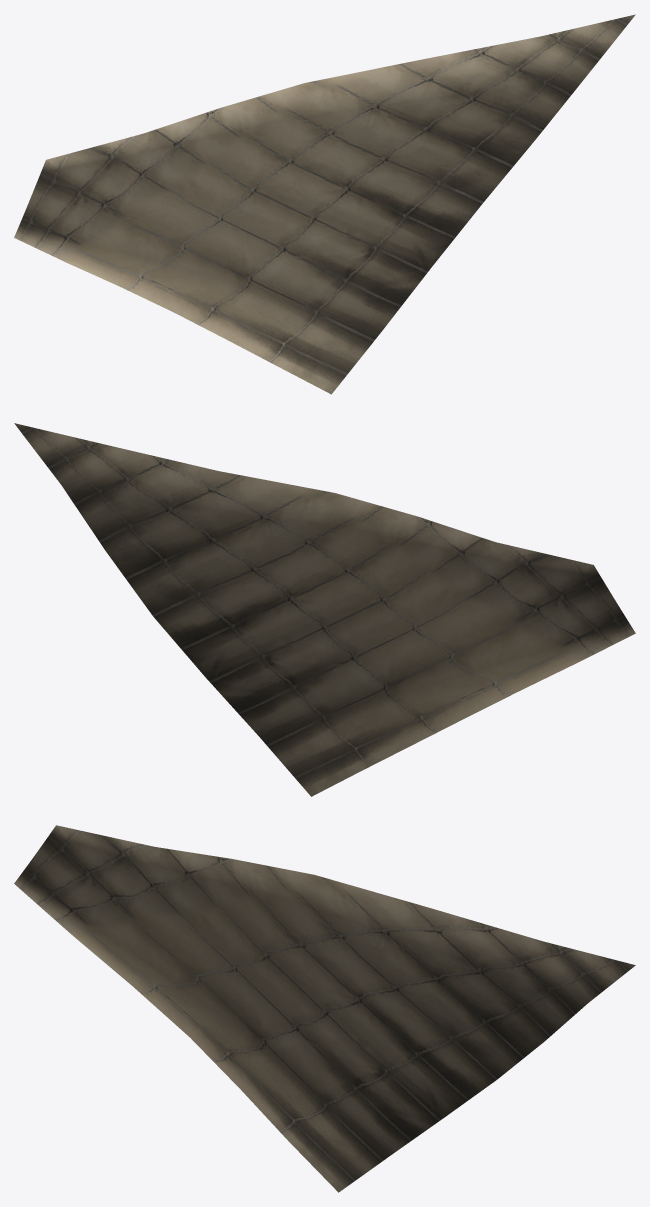
Rendered from orient_sail_back.glb.
The picture shows the model from 3 angles, top to bottom: view 1: azimuth 30°, elevation 25°; view 2: azimuth 150°, elevation 25°; view 3: azimuth 330°, elevation 25°; orthographic projection.
Visible parts, largest first — view 1: CLOTH_orient_cargo_ship_sail_back; view 2: CLOTH_orient_cargo_ship_sail_back; view 3: CLOTH_orient_cargo_ship_sail_back.
Boxes of the visible parts, <box> form: CLOTH_orient_cargo_ship_sail_back: <box>14,14,635,394</box>; CLOTH_orient_cargo_ship_sail_back: <box>14,423,635,796</box>; CLOTH_orient_cargo_ship_sail_back: <box>14,825,635,1192</box>.
Bounding box in the file's own units: 3.44 × 1.66 × 0.1106.
Materials: 1 (1 with a texture image).
